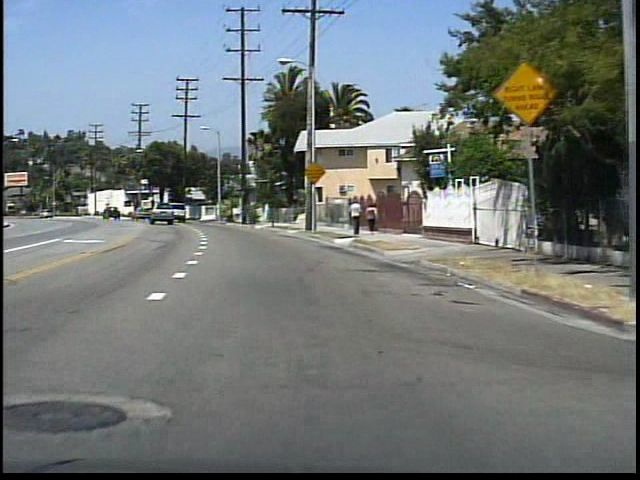person: (347, 197, 364, 238), (363, 200, 380, 234)
